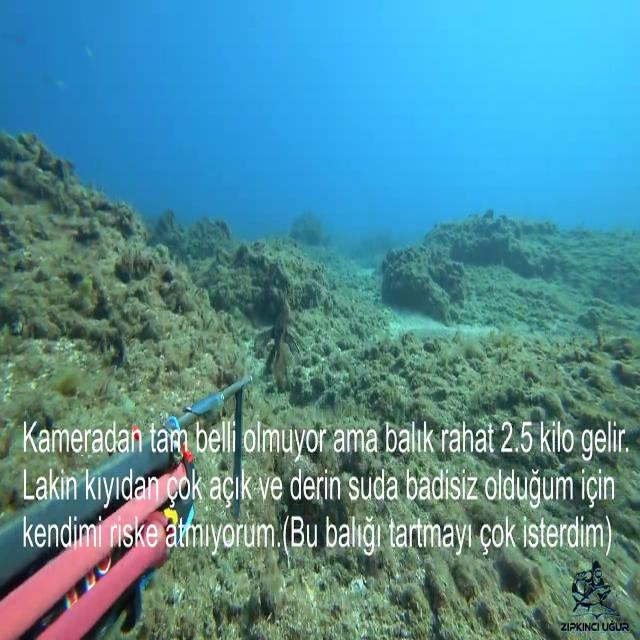Aslan Baligi: (250, 270, 310, 391)
